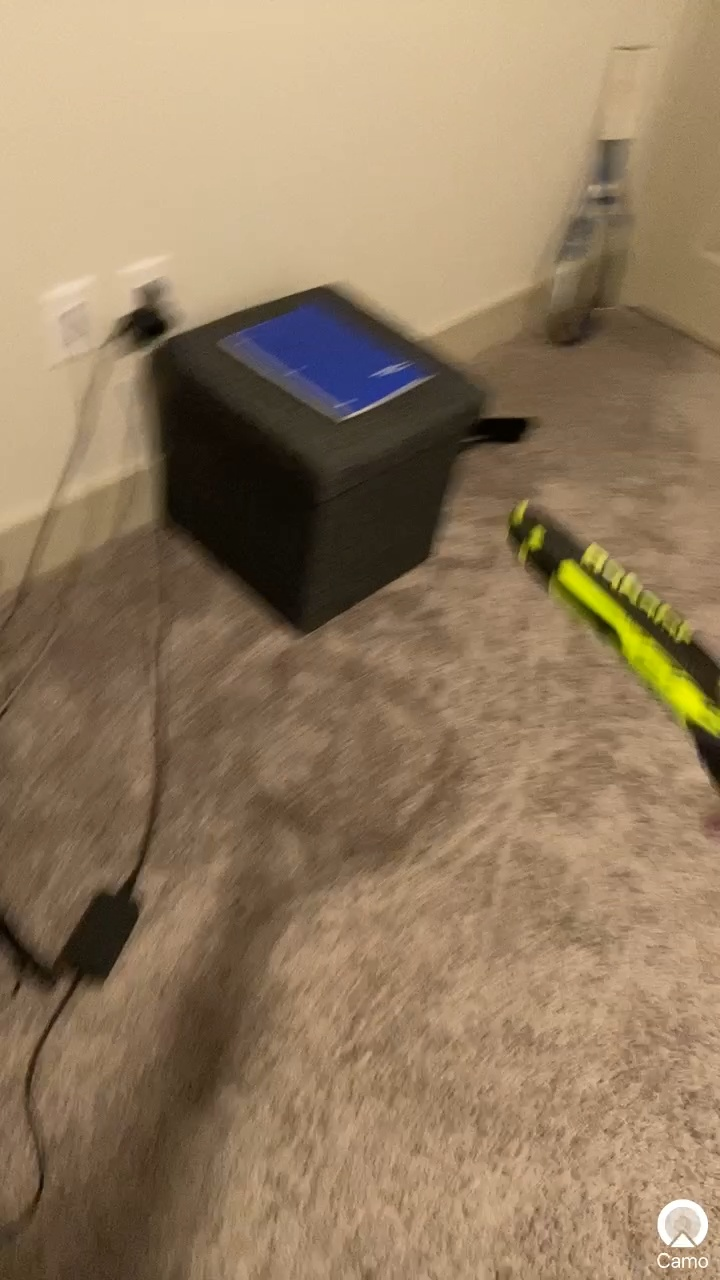Tennis_Racquet: (464, 478, 720, 876)
